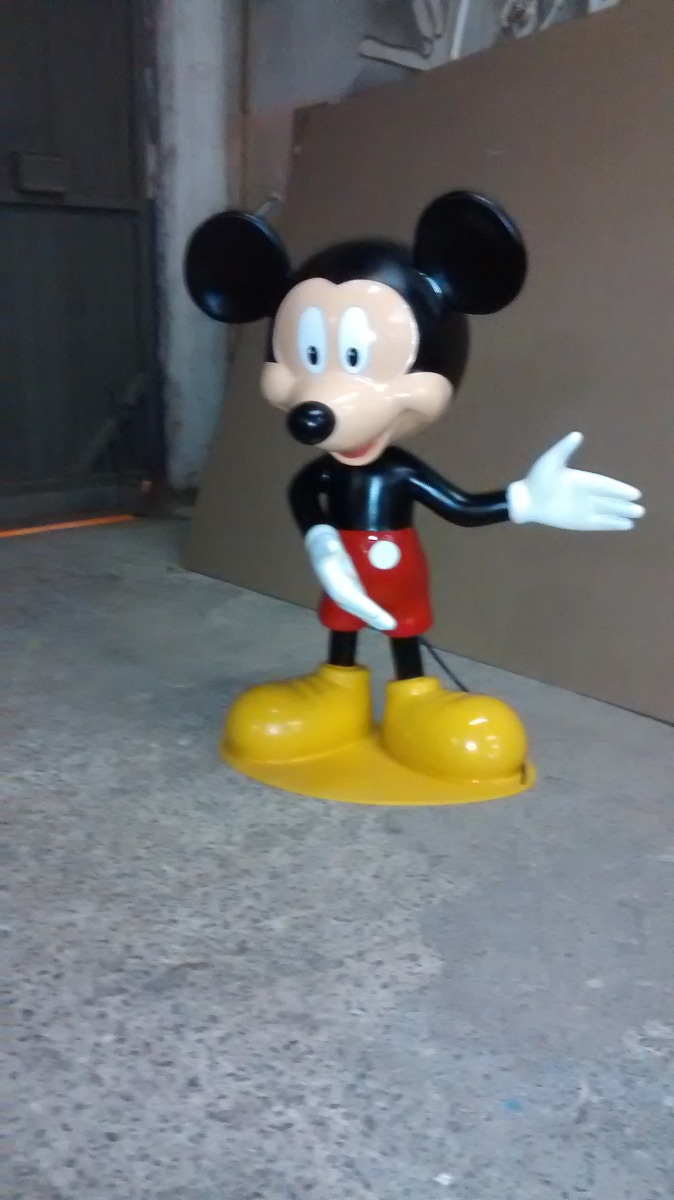Mickey: (182, 184, 531, 471)
